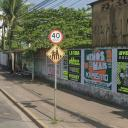speed_limit_40: (49, 30, 63, 44)
